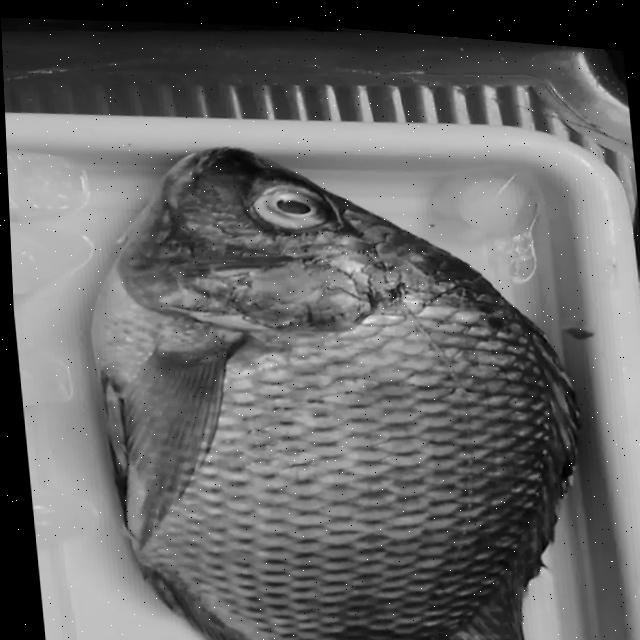Fresh: (68, 227, 612, 640), (234, 163, 359, 246)
